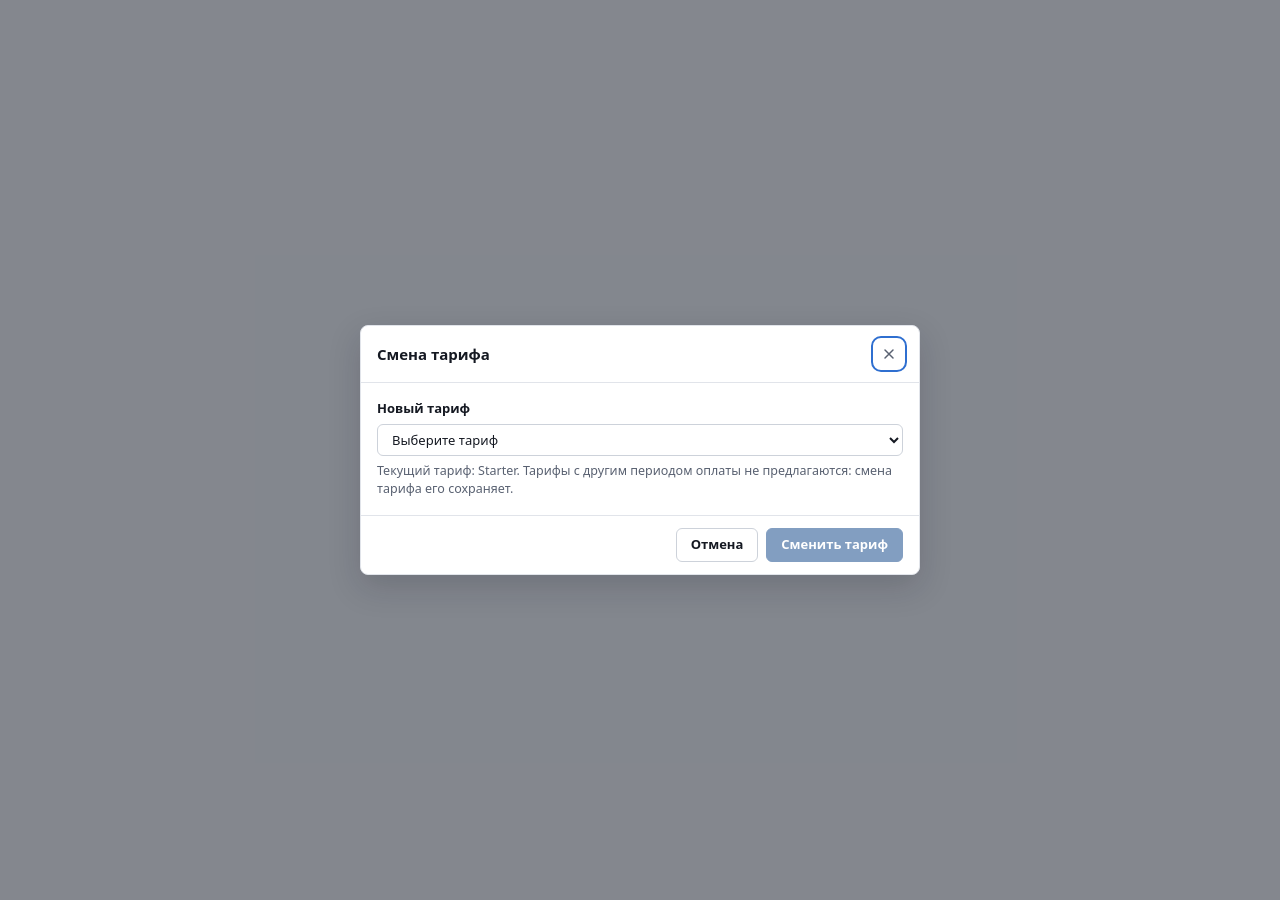
Test case: ChangePlanDialog › explains a refusal from the engine and keeps the change from being confirmed
Select "Team · 29,00 € в месяц" in the dropdown at (640, 440), box x1=377 y1=424 x2=903 y2=456
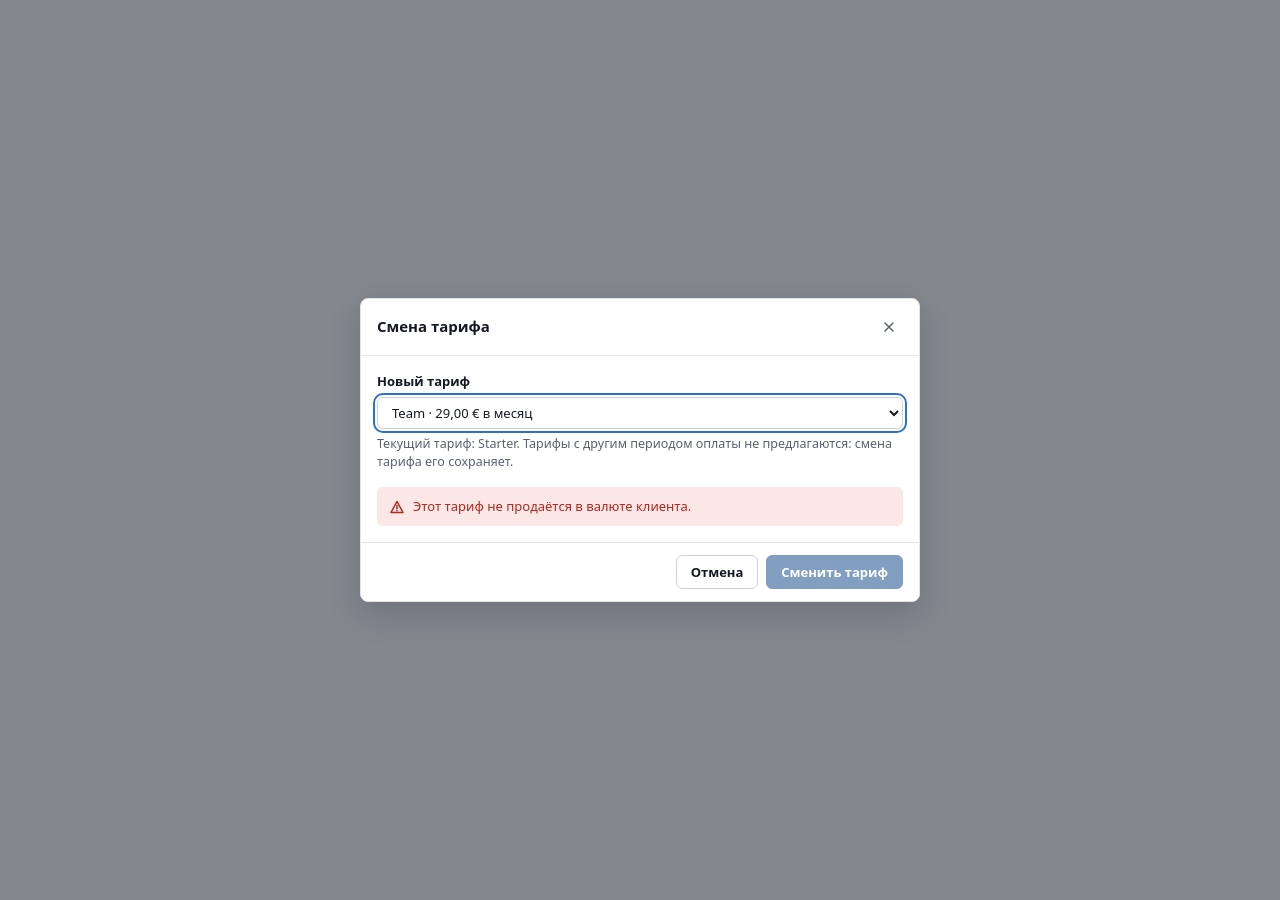
expect the button "Сменить тариф" is disabled: met, box x1=766 y1=555 x2=903 y2=589
expect the message reads "Этот тариф не продаётся в валюте клиента.": met, box x1=413 y1=497 x2=691 y2=515
